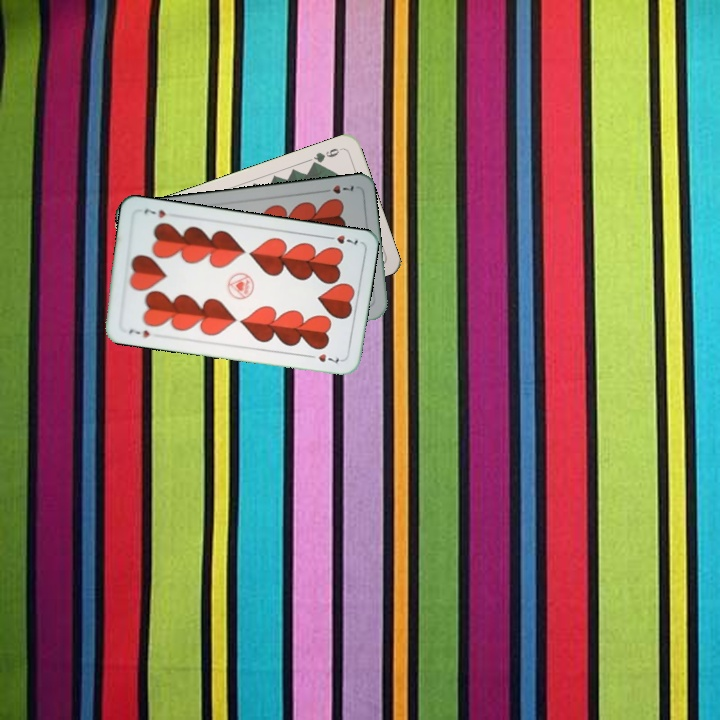G9: (307, 144, 345, 169)
H7: (322, 231, 360, 247), (318, 181, 356, 196), (125, 325, 152, 341)
